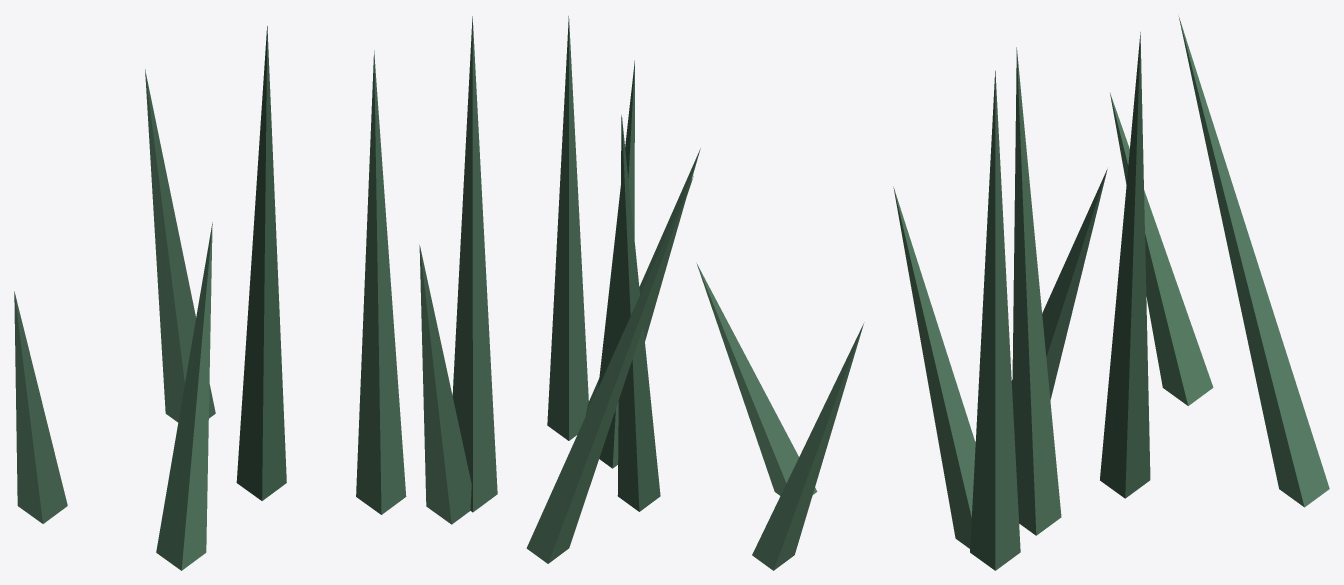
File: grass_tuft.glb
3 renders of one model, left to right at view 1: azimuth 30°, elevation 25°; view 2: azimuth 150°, elevation 25°; view 3: azimuth 270°, elevation 25°, orthographic. The views are drawn at different scales.
Parts seen in each view (by area): view 1: grass_tuft; view 2: grass_tuft; view 3: grass_tuft.
Boxes of the visible parts, box(x1,y1,x2,y2) form: grass_tuft: box(14, 16, 497, 570); grass_tuft: box(526, 16, 864, 570); grass_tuft: box(893, 16, 1329, 570).
Bounding box in the file's own units: 0.4258 × 0.4637 × 0.3737.
Materials: 1 (1 with a texture image).
